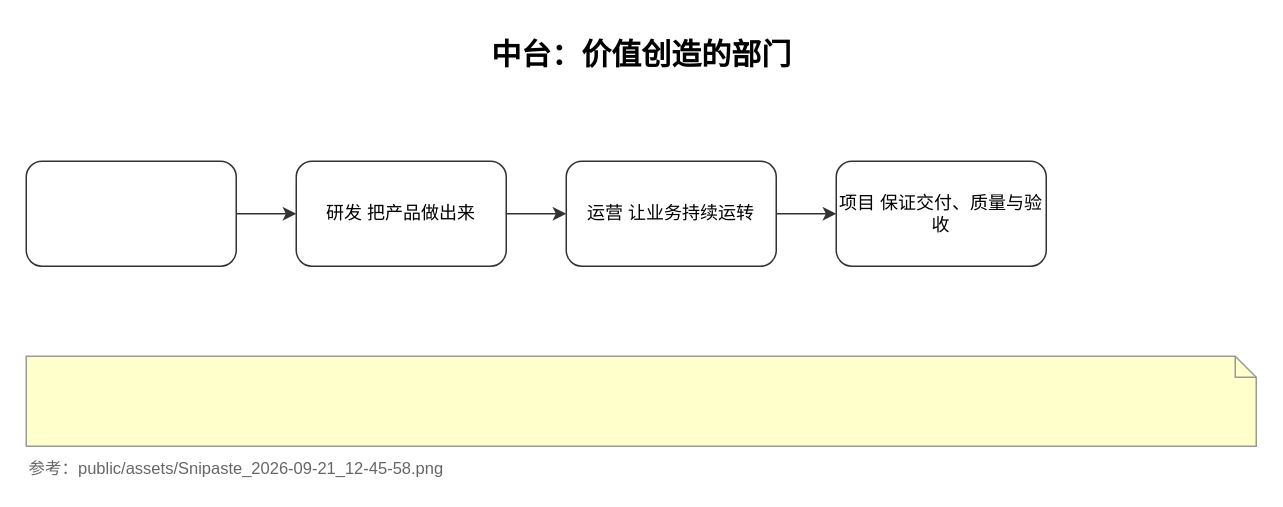
This 1283x507 diagram has some shape labels left out. Here are the shapes that lost their labels. From the top down, the centre of each, then its label:
pixel 130 213: 产品 决定做什么
pixel 640 400: 输入：客户需求（目标 · 痛点 · 价值期望 · 约束）→ 输出：交付完整 · 质量达标 · 验收通过 · 客户满意
